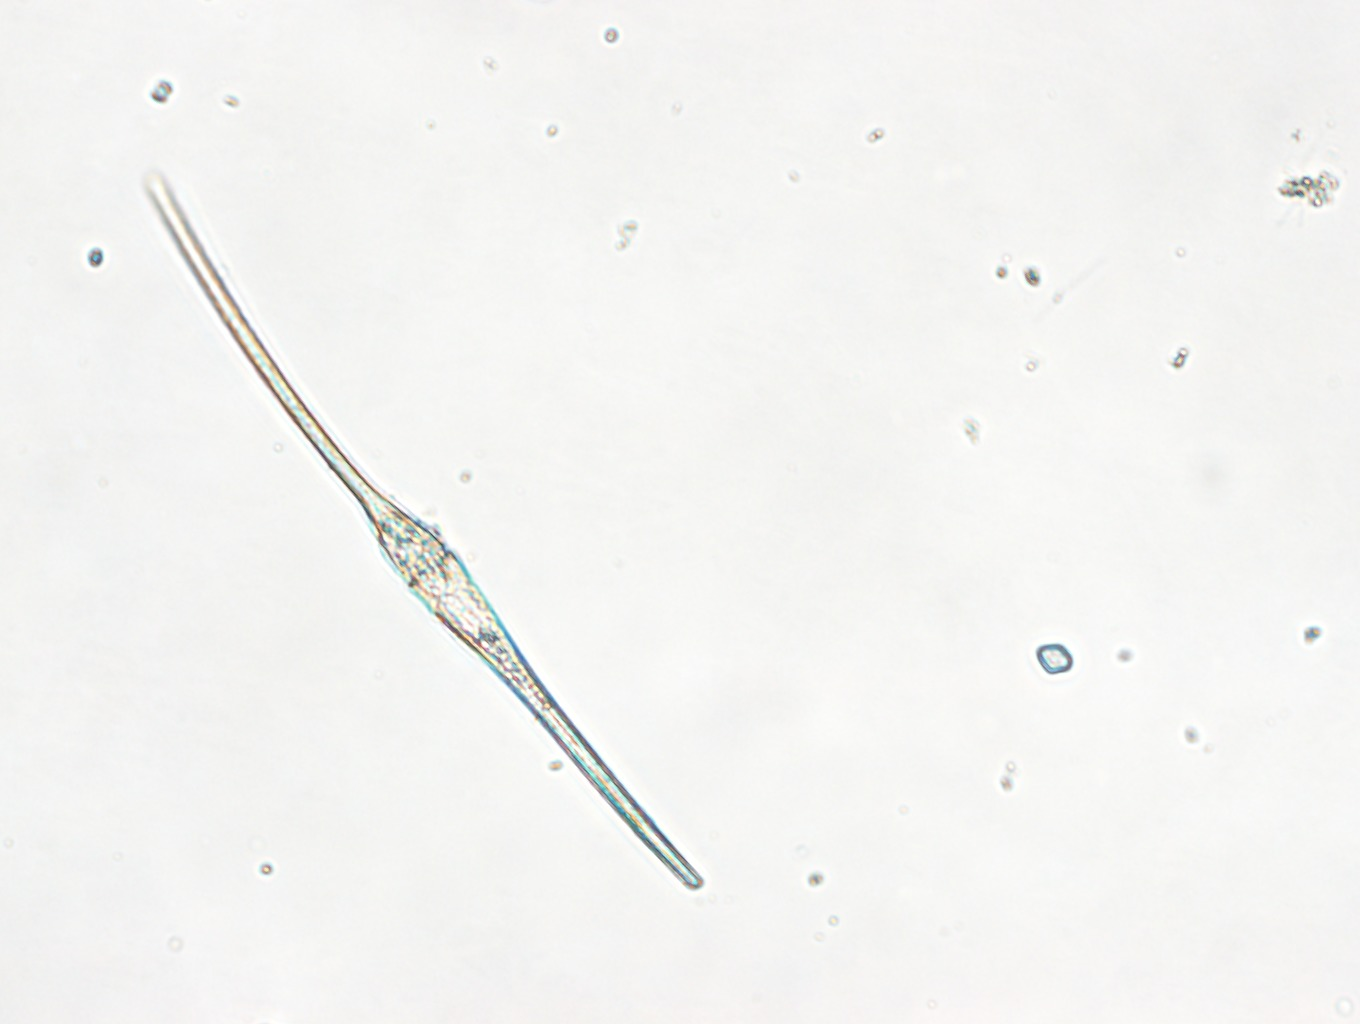ceratium fusus: (140, 167, 707, 892)
